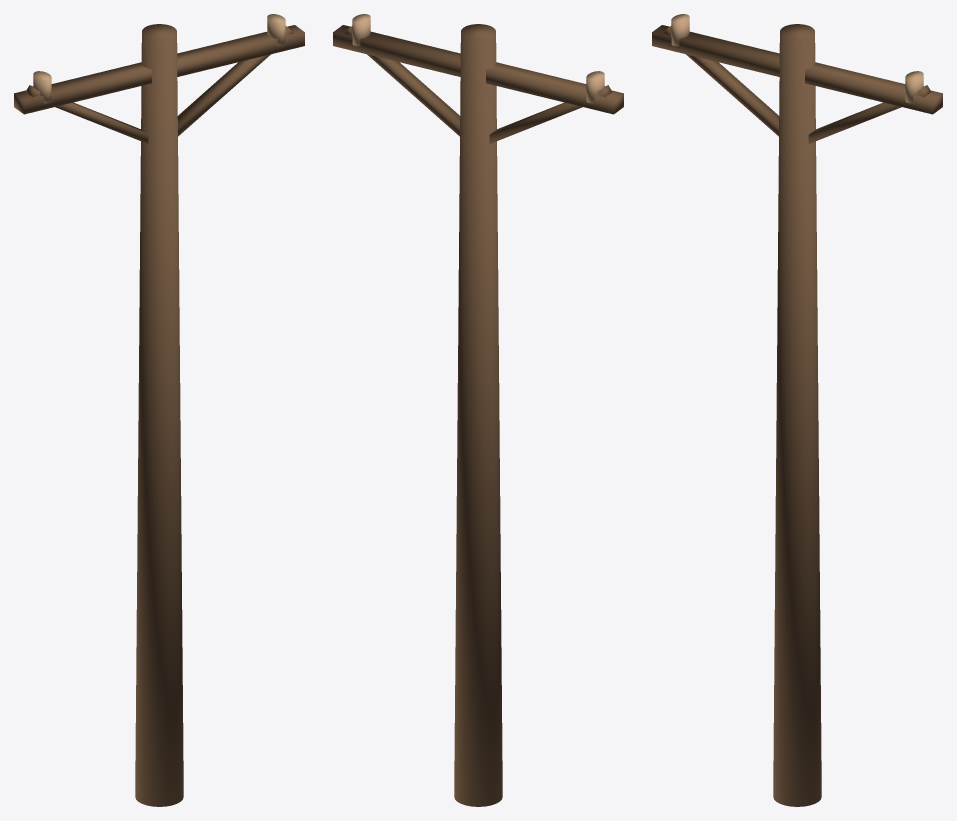
File: pylon.glb
3 views of the same model, side by side, from view 1: azimuth 30°, elevation 25°; view 2: azimuth 150°, elevation 25°; view 3: azimuth 330°, elevation 25° (orthographic).
Visible parts, largest first — view 1: _EXP_Pole, _EXP_Crossarm, _EXP_Brace_R, _EXP_Brace_L; view 2: _EXP_Pole, _EXP_Crossarm, _EXP_Brace_R, _EXP_Brace_L; view 3: _EXP_Pole, _EXP_Crossarm, _EXP_Brace_L, _EXP_Brace_R.
Boxes of the visible parts, box(x1,y1,x2,y2) form: _EXP_Pole: box(135, 24, 183, 806); _EXP_Crossarm: box(14, 25, 304, 114); _EXP_Brace_R: box(177, 26, 293, 136); _EXP_Brace_L: box(25, 85, 148, 143); _EXP_Pole: box(454, 24, 502, 806); _EXP_Crossarm: box(333, 25, 623, 114); _EXP_Brace_R: box(344, 26, 460, 136); _EXP_Brace_L: box(489, 85, 612, 143); _EXP_Pole: box(773, 24, 821, 806); _EXP_Crossarm: box(652, 25, 942, 114); _EXP_Brace_L: box(663, 26, 779, 136); _EXP_Brace_R: box(808, 85, 931, 143).
Size of the model in its own units: 1.54 by 4 by 0.2304.
